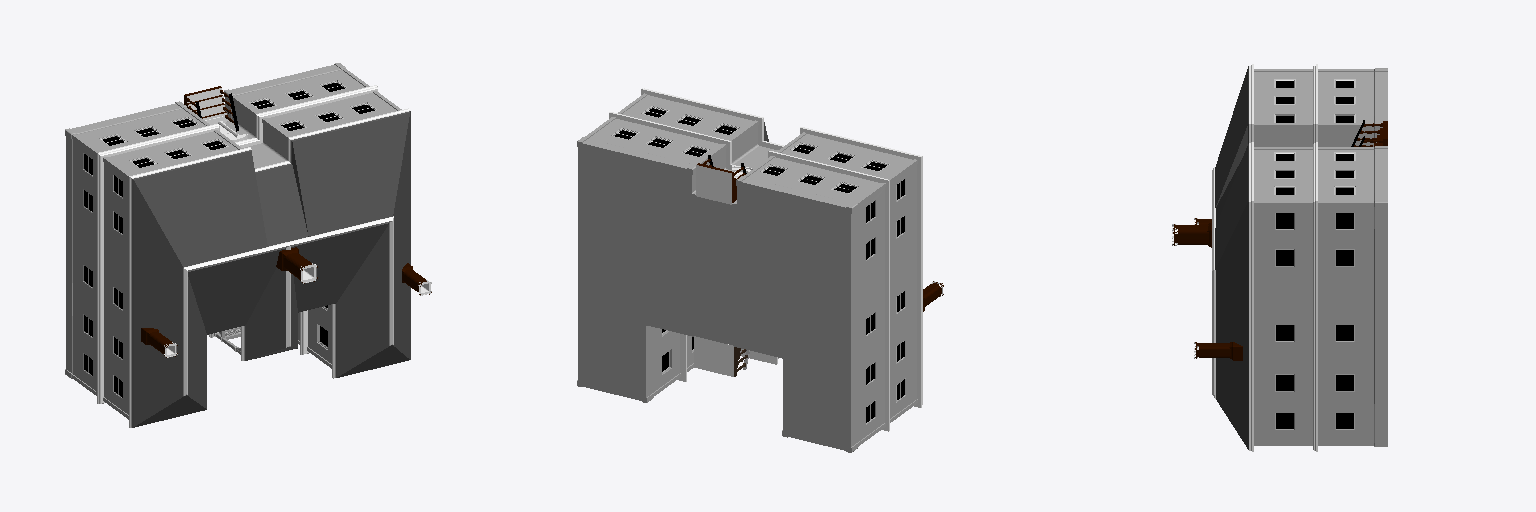
File: hotel.obj
3 renders of one model, left to right at view 1: azimuth 30°, elevation 25°; view 2: azimuth 150°, elevation 25°; view 3: azimuth 270°, elevation 25°, orthographic.
Bounding box in the file's own units: 5 × 4.36 × 3.33.